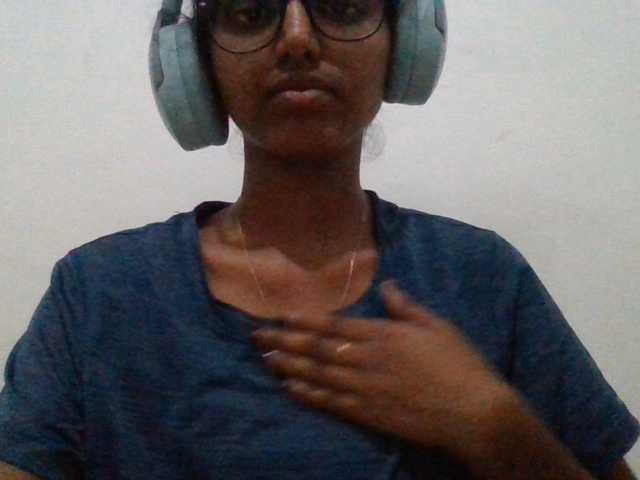Please: (222, 242, 528, 480)
